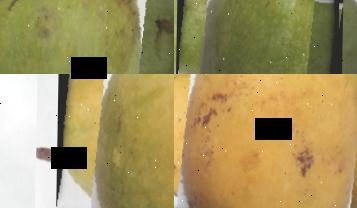PartiallyRipe: (62, 74, 174, 208)
Ripe: (174, 74, 357, 208)
Unripe: (0, 0, 174, 74), (178, 0, 339, 74)
